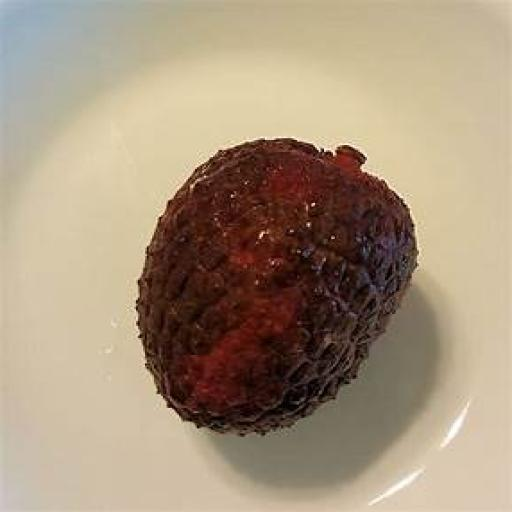lychee: (131, 138, 415, 439)
